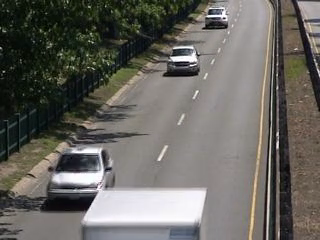car: (43, 144, 121, 203), (164, 42, 203, 79), (202, 5, 232, 31)
